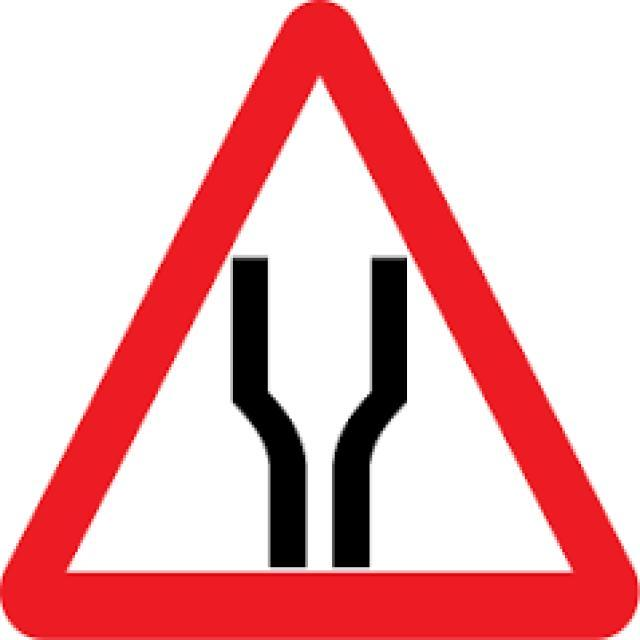road widens ahead: (16, 14, 620, 628)
